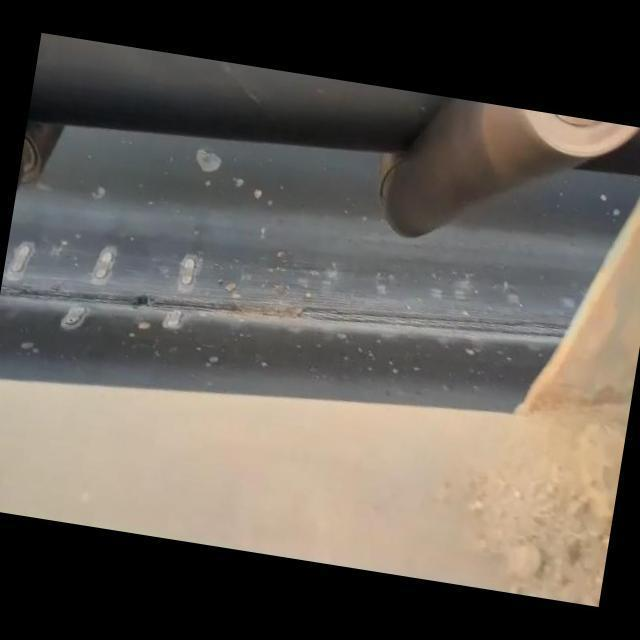Wear: (0, 280, 573, 340)
